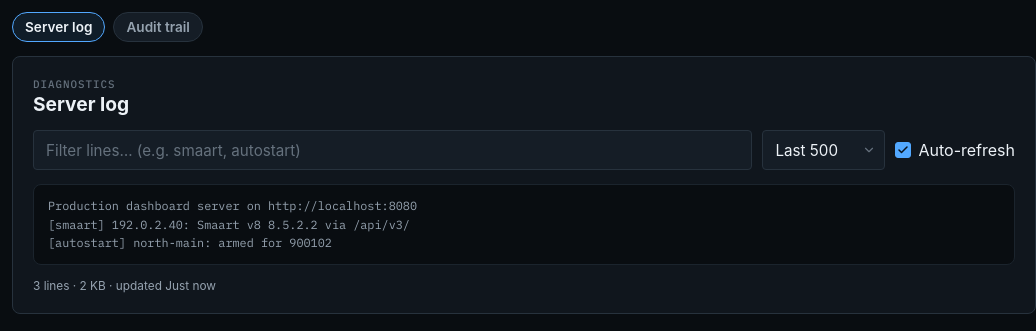
Test case: Logs › shows the server log tail, filters it, and switches to the audit trail
The image size is (1036, 331).
Check: the text with test id "server-log" shows "Smaart v8 8.5.2.2", box [48, 198, 417, 250]
Check: the text with test id "server-log" shows "Production dashboard server", box [48, 198, 417, 250]
In the field with placeholder "Filter lines… (e.g. smaart, autostart)": coordinates (393, 150) [33, 130, 752, 170], type "smaart"
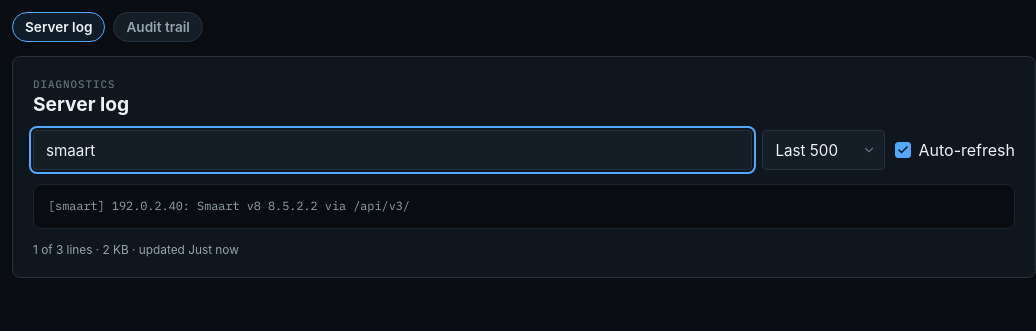
Check: the text with test id "server-log" shows "Smaart v8 8.5.2.2", box [48, 198, 410, 213]
Check: the text with test id "server-log" no longer shows "Production dashboard server", box [33, 184, 1015, 228]
Click the button "Audit trail": coordinates (158, 27) [113, 12, 203, 42]
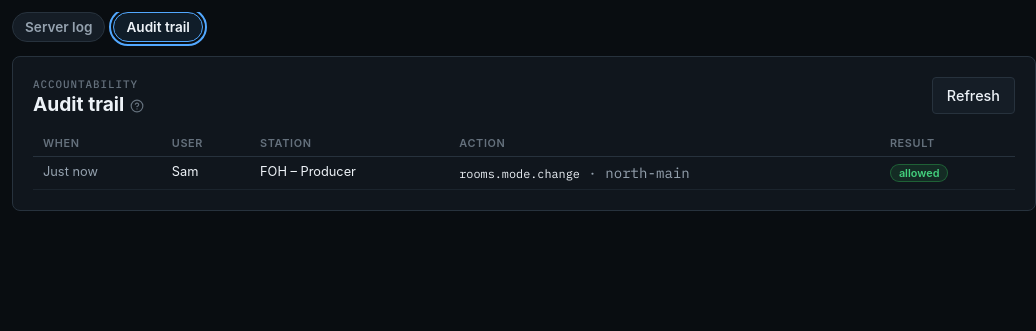
Check: the text "rooms.mode.change" is shown, box [459, 166, 580, 181]
Check: the text "Sam" is shown, box [162, 157, 250, 190]
Check: the text "allowed" is shown, box [890, 164, 948, 182]
